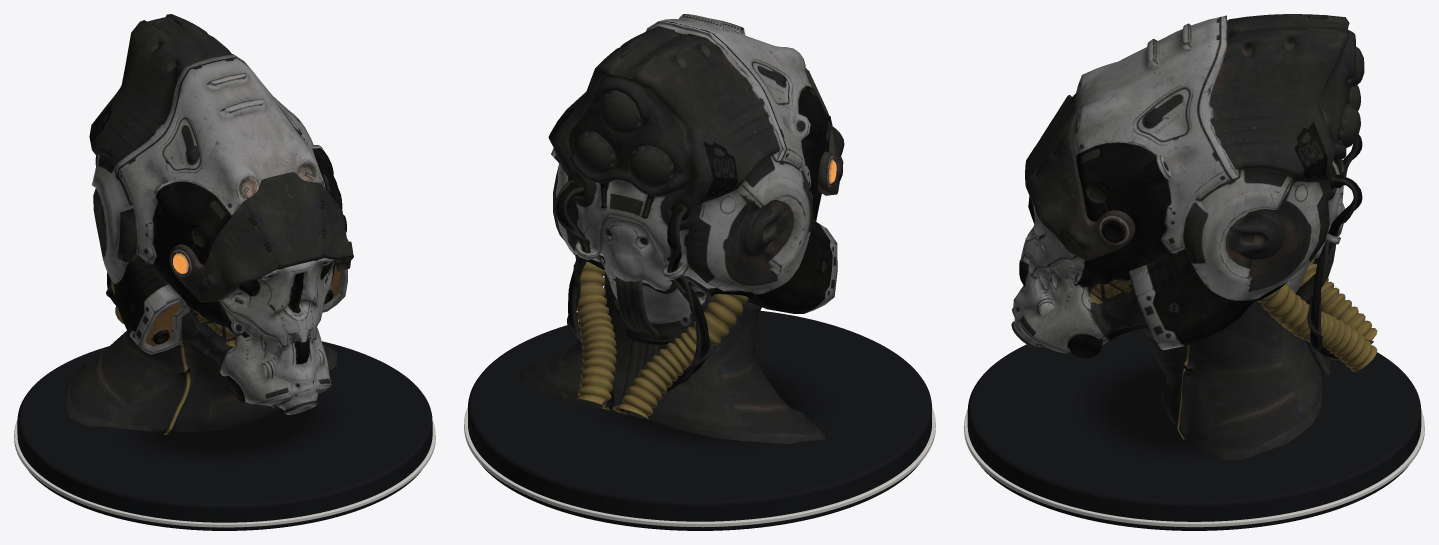
Rendered from visor.glb.
3 views of the same model, side by side, from view 1: azimuth 30°, elevation 25°; view 2: azimuth 150°, elevation 25°; view 3: azimuth 270°, elevation 25° (orthographic). The views are drawn at different scales.
Visible parts, largest first — view 1: Helmet, Plinth, PlinthRing; view 2: Helmet, Plinth, PlinthRing; view 3: Helmet, Plinth, PlinthRing.
Part boxes in pixels (x1=…): Helmet: x1=64, y1=14, x2=353, y2=434; Plinth: x1=17, y1=341, x2=432, y2=530; PlinthRing: x1=14, y1=420, x2=435, y2=527; Helmet: x1=520, y1=14, x2=844, y2=443; Plinth: x1=468, y1=310, x2=931, y2=530; PlinthRing: x1=464, y1=407, x2=935, y2=527; Helmet: x1=1011, y1=14, x2=1377, y2=460; Plinth: x1=967, y1=329, x2=1421, y2=530; PlinthRing: x1=964, y1=410, x2=1424, y2=527.
Bounding box in the file's own units: 3.15 × 3.14 × 3.15.
3 materials, 2 textured.
